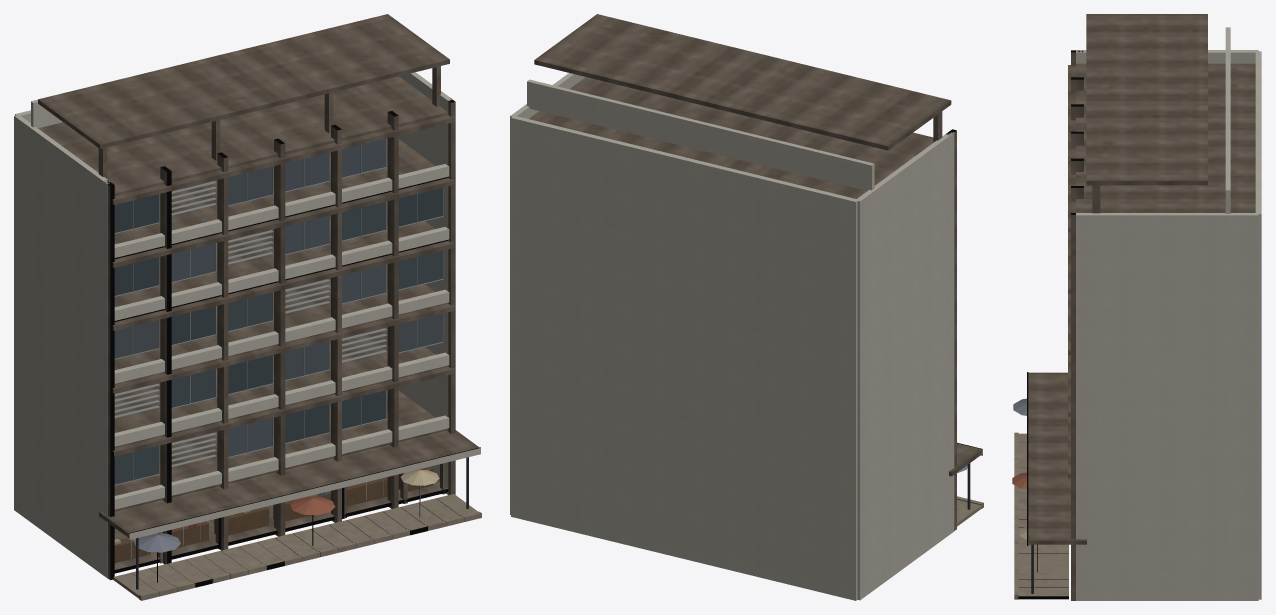
File: lagos_broadstreet_v2_lod0.glb
The picture shows the model from 3 angles, left to right: view 1: azimuth 30°, elevation 25°; view 2: azimuth 150°, elevation 25°; view 3: azimuth 270°, elevation 25°; orthographic projection. The views are drawn at different scales.
Visible parts, largest first — view 1: Lagos_BroadStreet_v2_near; view 2: Lagos_BroadStreet_v2_near; view 3: Lagos_BroadStreet_v2_near.
Boxes of the visible parts, box(x1,y1,x2,y2) form: Lagos_BroadStreet_v2_near: box(14, 14, 481, 600); Lagos_BroadStreet_v2_near: box(510, 14, 983, 600); Lagos_BroadStreet_v2_near: box(1012, 14, 1261, 600).
Bounding box in the file's own units: 19.6 × 22.92 × 12.3.
5 materials, 1 textured.
